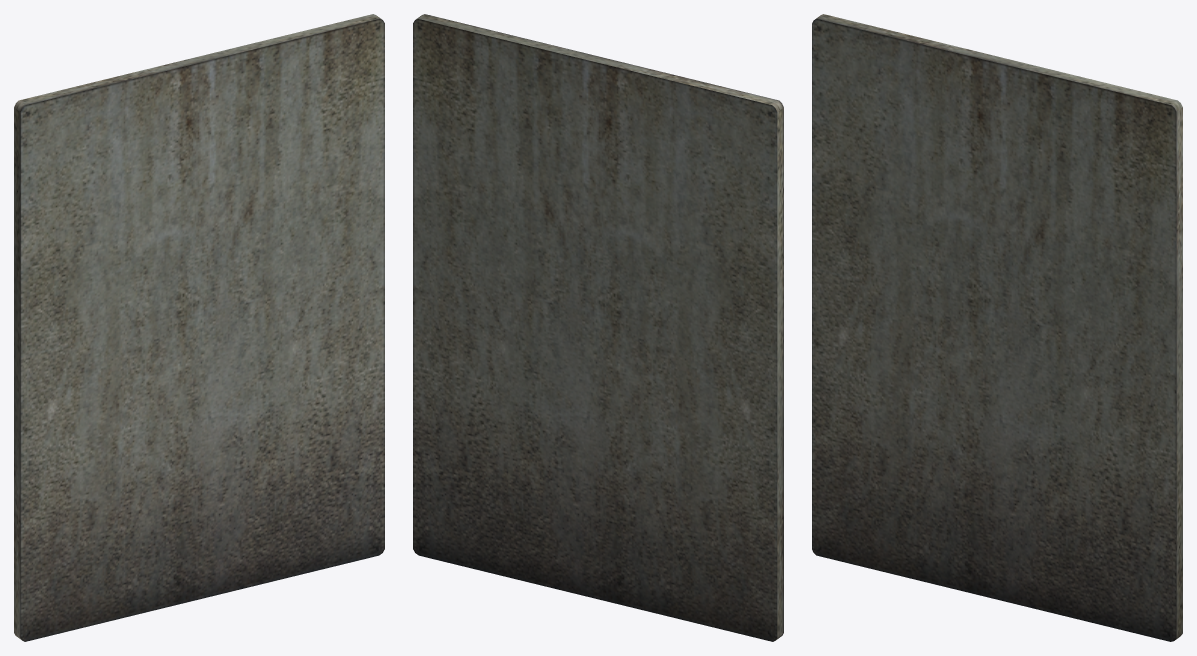
Rendered from lab_panel_short_rusty.dae.
The picture shows the model from 3 angles, left to right: view 1: azimuth 30°, elevation 25°; view 2: azimuth 150°, elevation 25°; view 3: azimuth 330°, elevation 25°; orthographic projection.
Parts seen in each view (by area): view 1: lab_panel_short; view 2: lab_panel_short; view 3: lab_panel_short.
Part boxes in pixels (bbox=[...]): lab_panel_short: bbox=[14, 14, 384, 641]; lab_panel_short: bbox=[413, 14, 783, 641]; lab_panel_short: bbox=[812, 14, 1182, 641].
Bounding box in the file's own units: 1.98 × 2.79 × 0.0625.
